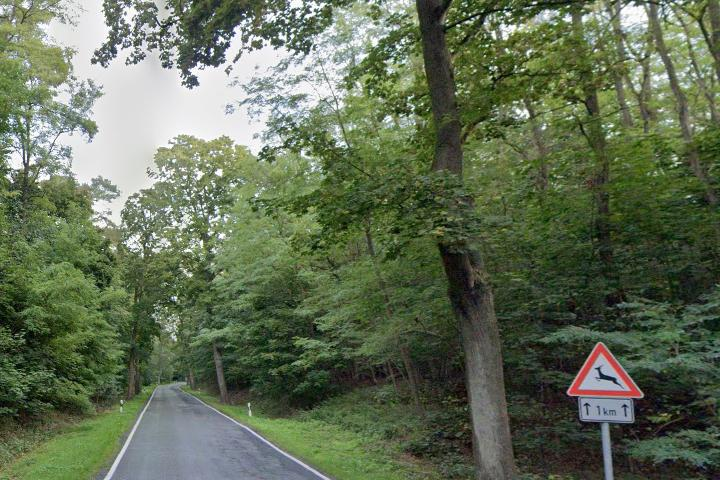traffic_sign: (565, 342, 644, 399)
